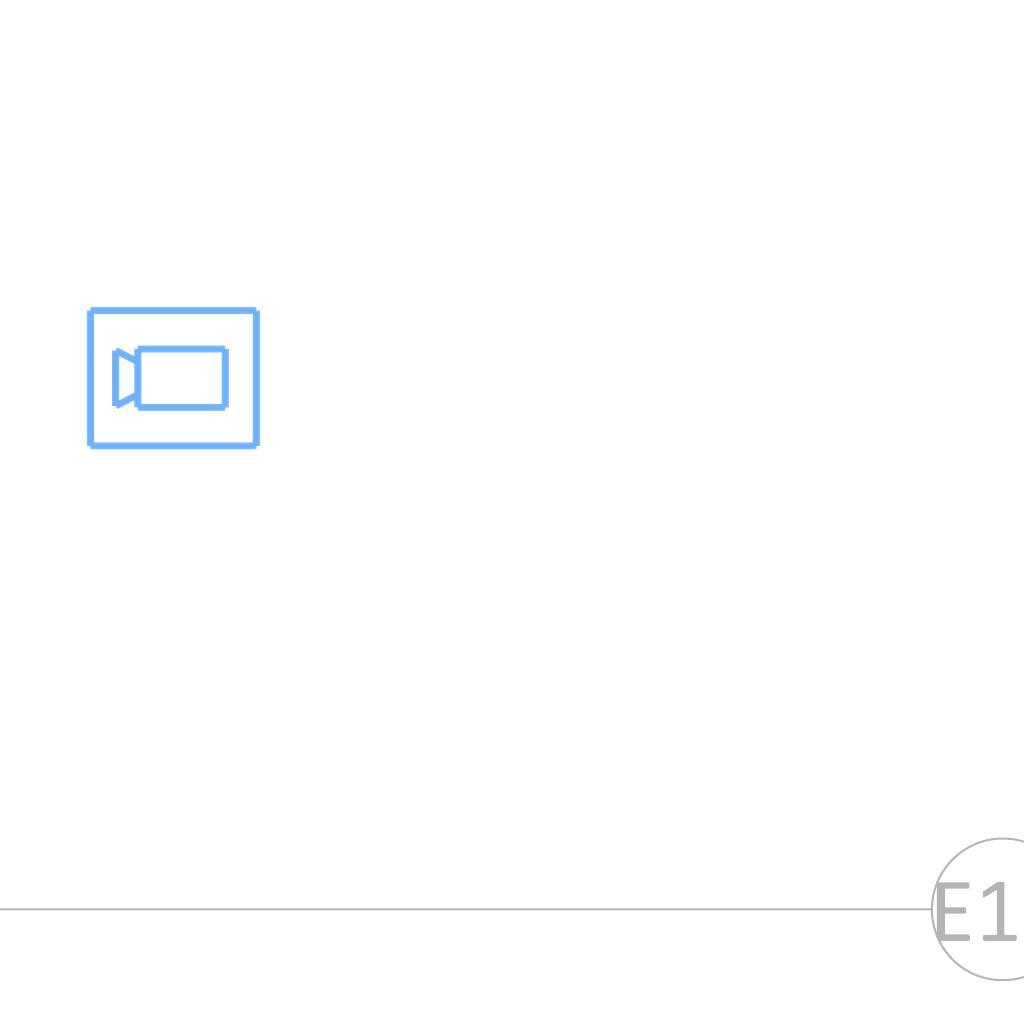KFO_Kamera_mit_Festobjektiv: (83, 300, 265, 454)
